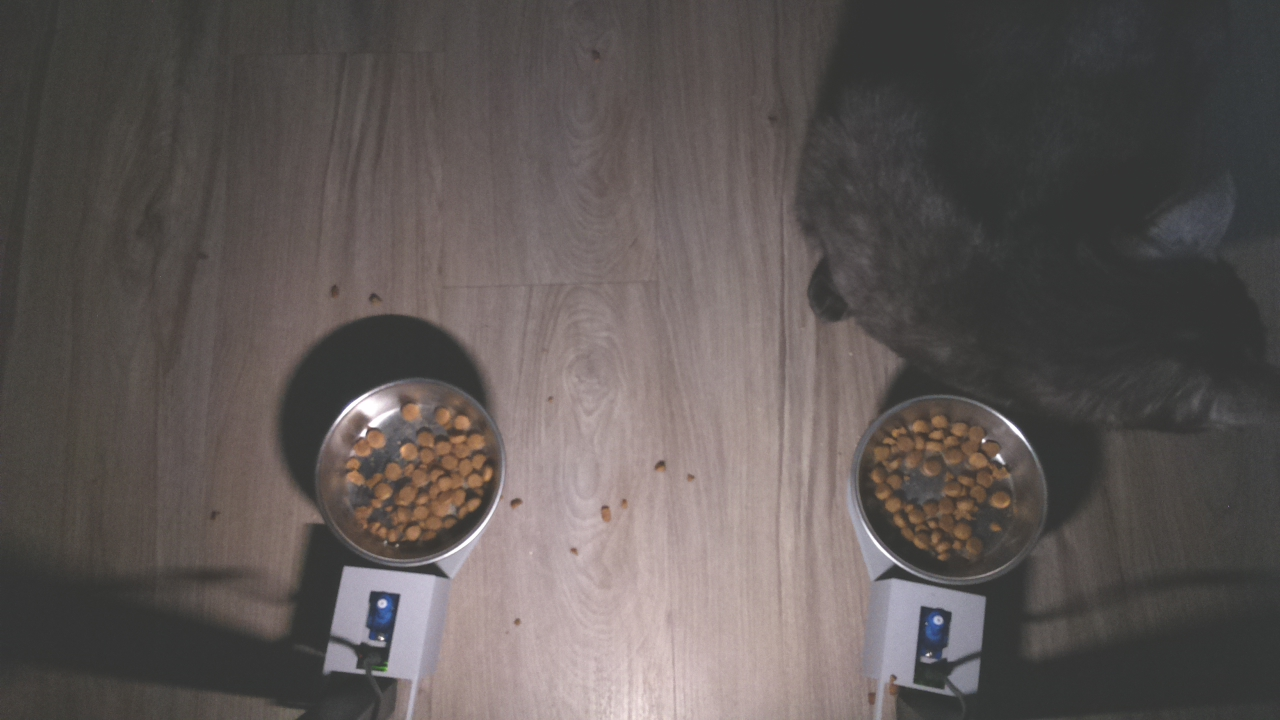open_bowl: (842, 384, 1054, 587), (307, 376, 518, 571)
